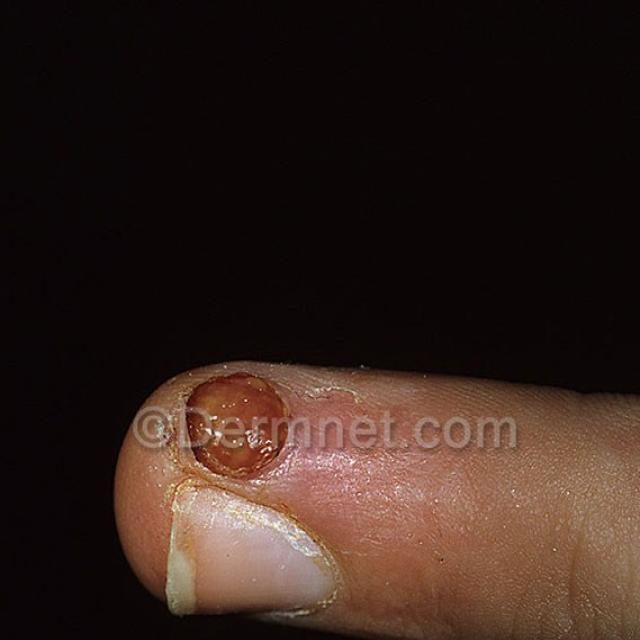Vascular Tumors: (179, 366, 309, 493)
